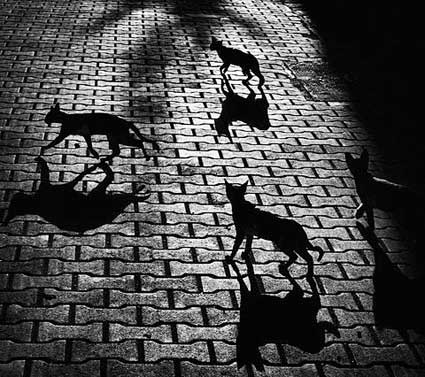house cat: (220, 168, 323, 269), (343, 149, 425, 235), (29, 97, 152, 149), (203, 23, 289, 91)
